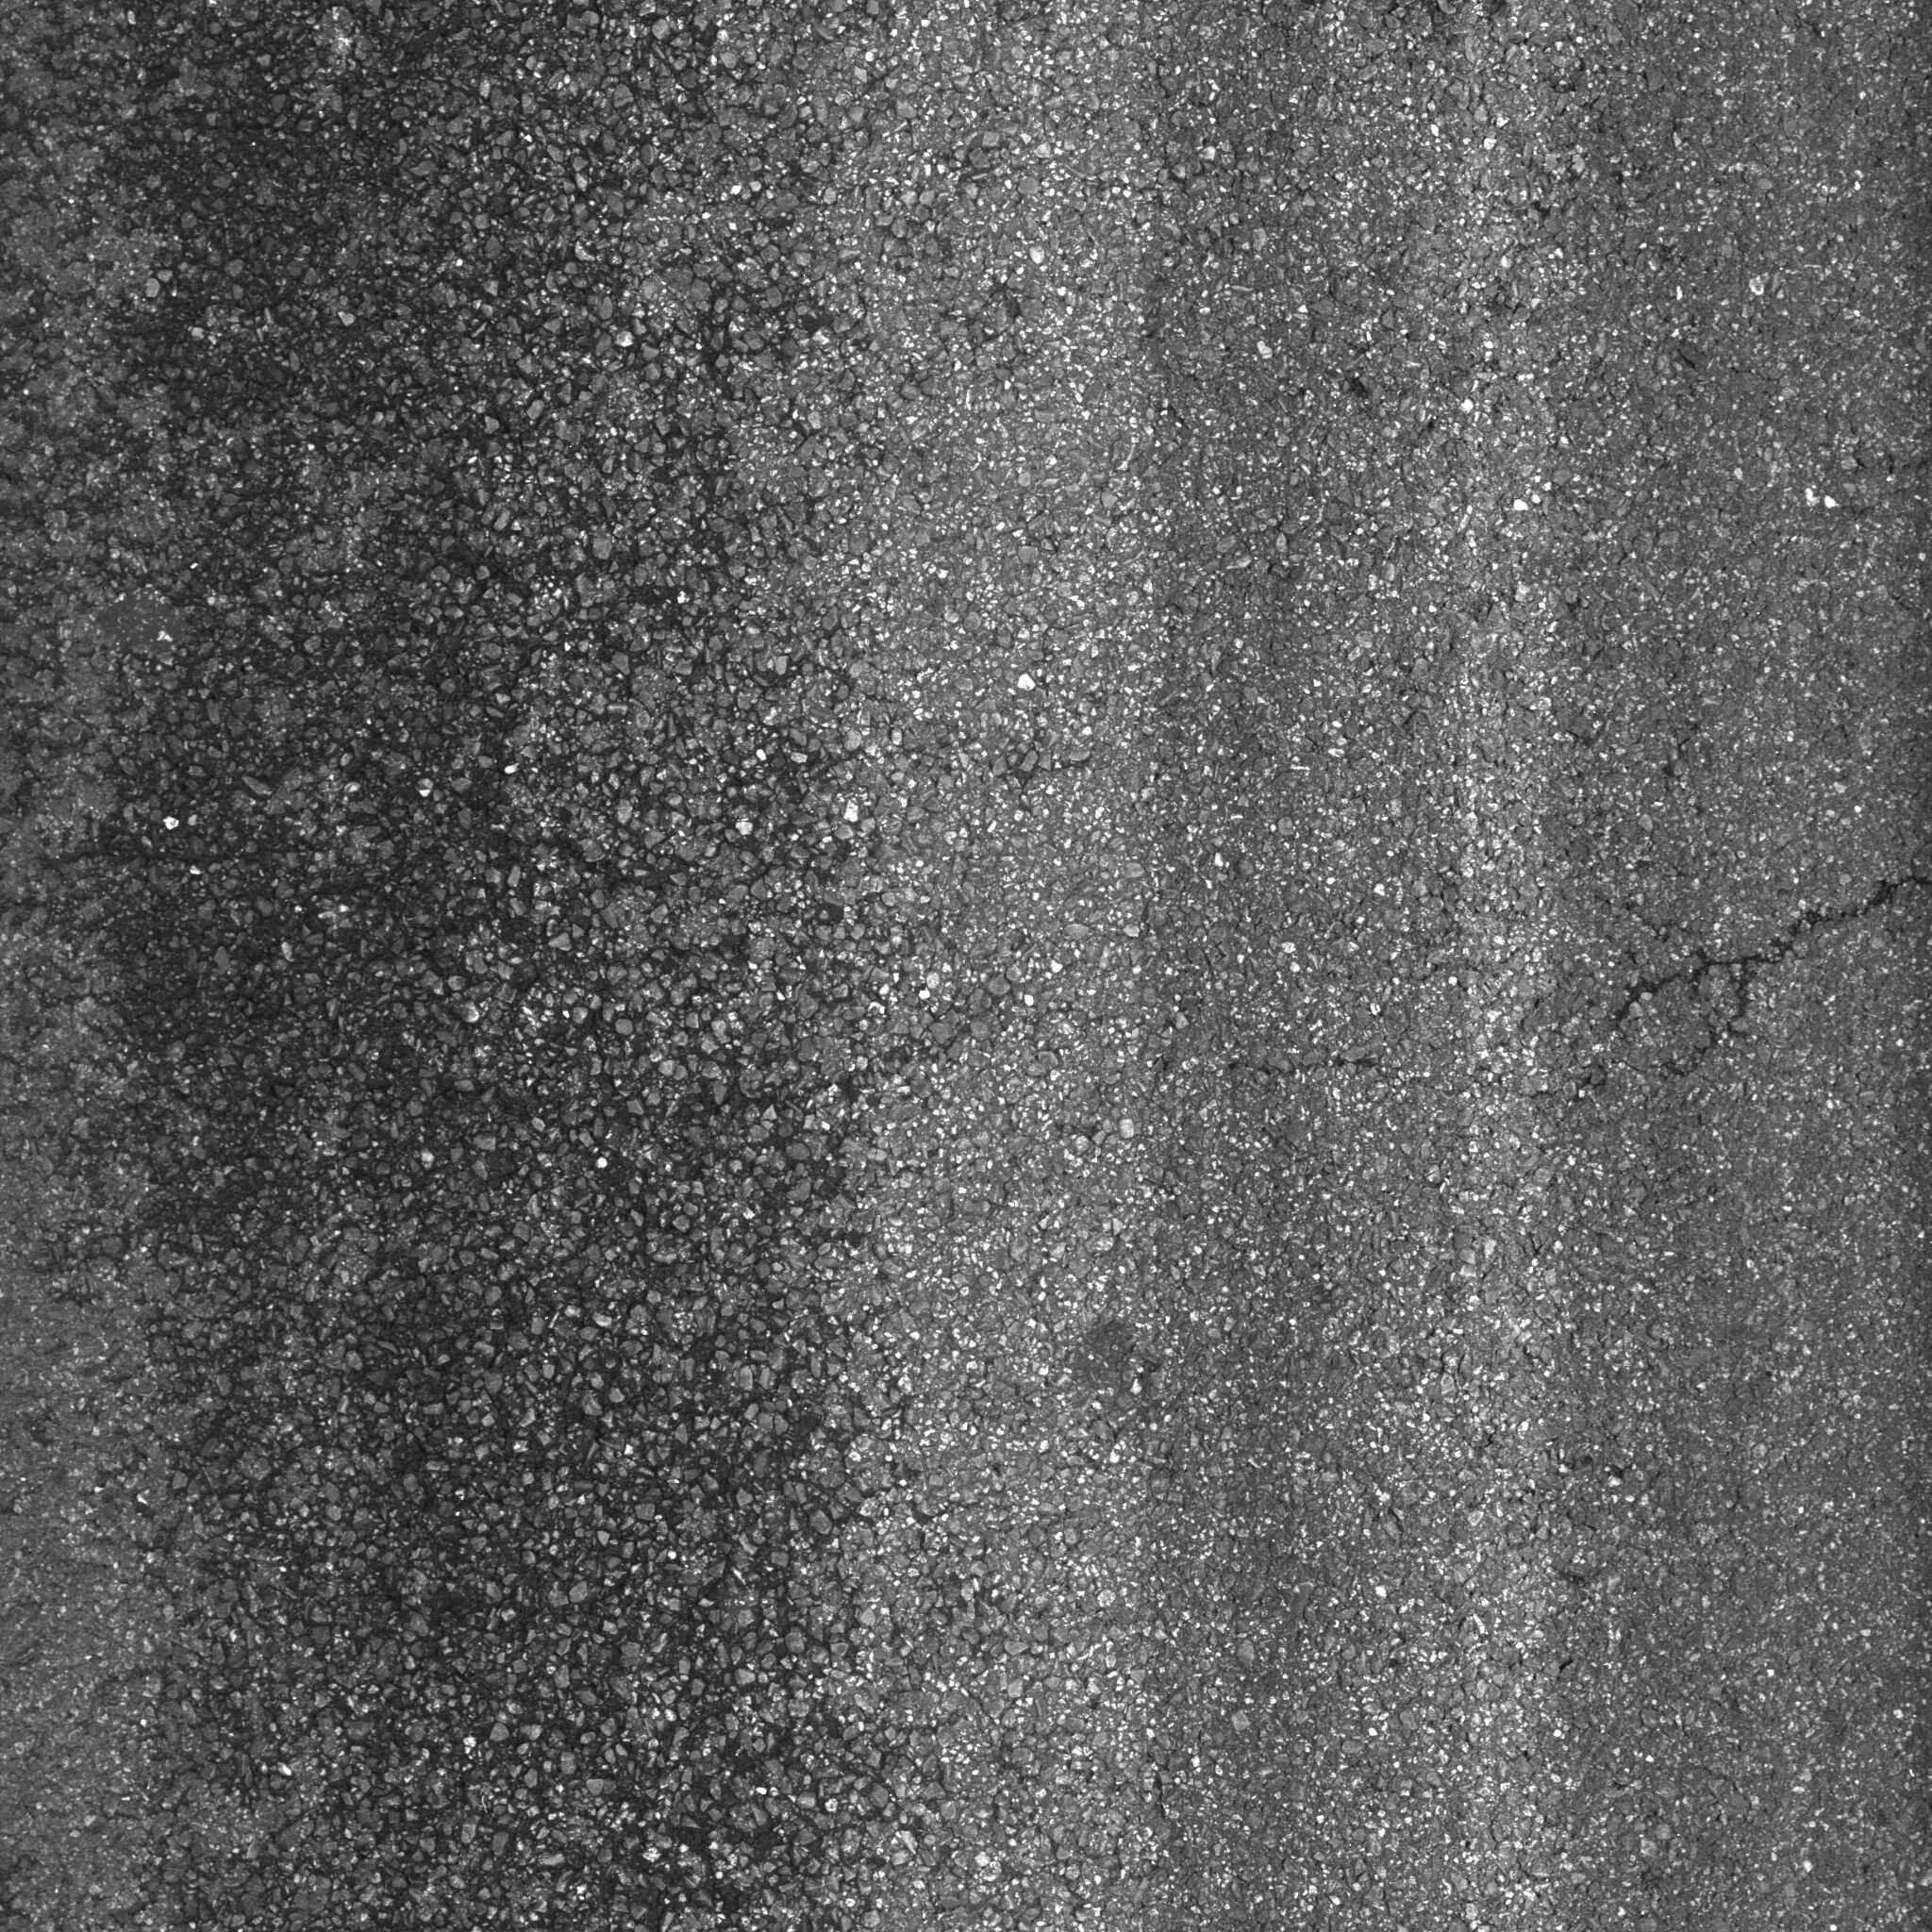transeverse: (1539, 846, 1932, 1060)
